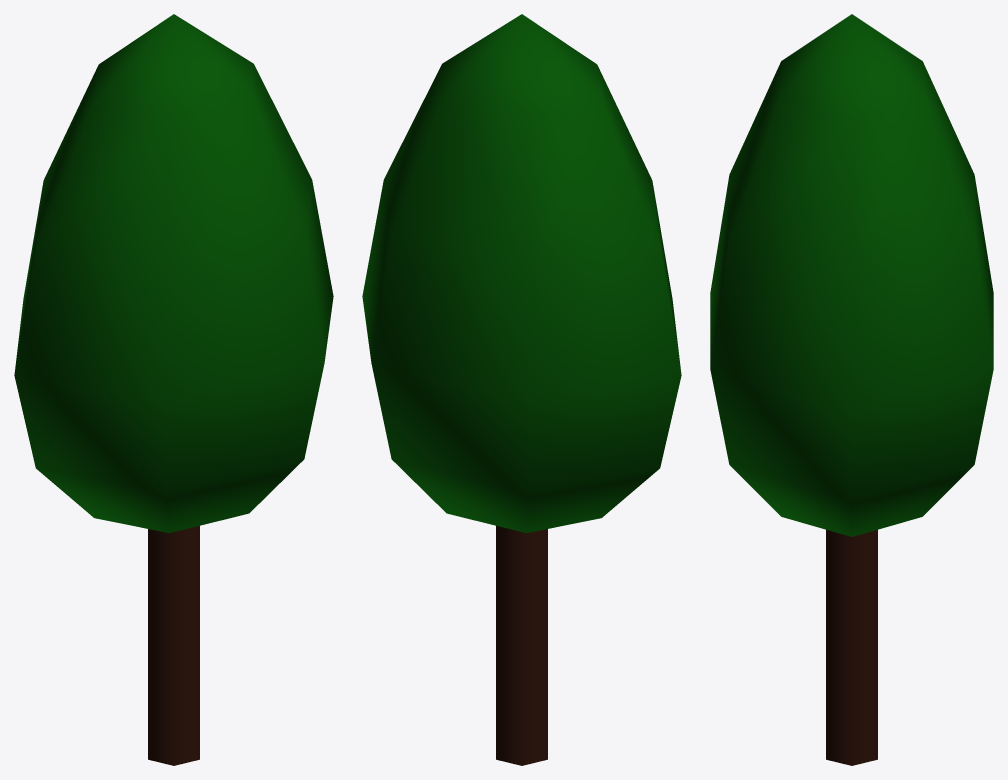
File: Yard_AnyWhere_Tree_round.FBX
3 views of the same model, side by side, from view 1: azimuth 30°, elevation 25°; view 2: azimuth 150°, elevation 25°; view 3: azimuth 270°, elevation 25° (orthographic).
Visible parts, largest first — view 1: Yard_AnyWhere_Tree_round; view 2: Yard_AnyWhere_Tree_round; view 3: Yard_AnyWhere_Tree_round.
Part boxes in pixels (x1,y1,x2,y2): Yard_AnyWhere_Tree_round: (14,14,333,765); Yard_AnyWhere_Tree_round: (362,14,681,765); Yard_AnyWhere_Tree_round: (710,14,993,765).
Size of the model in its own units: 5.51 by 4.24 by 12.2.
